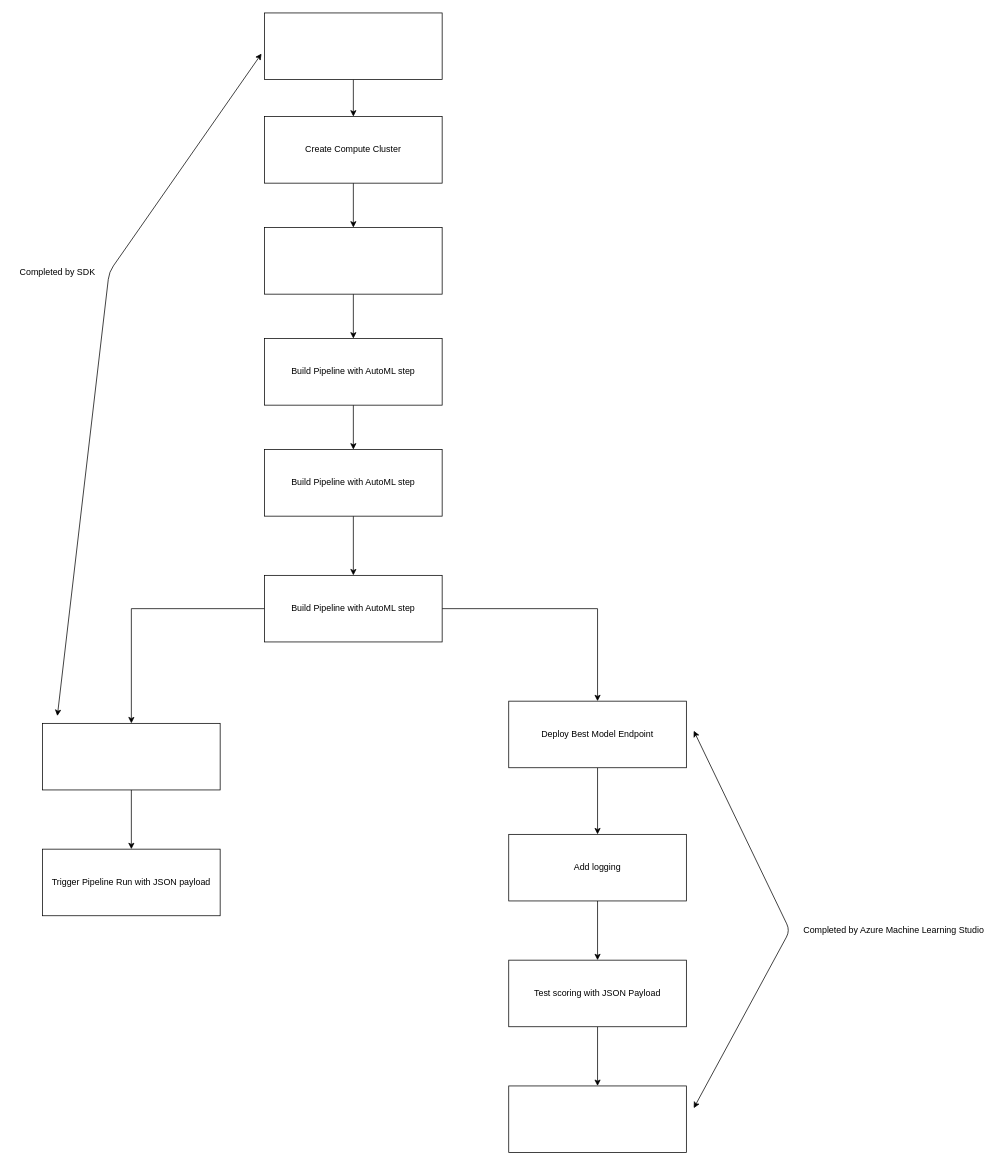
The diagram is 1002 pixels wide and 1166 high, and some of its shapes have lost their labels. The centre of each missing label's shape, as x and y in pixels:
"Create Experiment in workspace" belongs at [353,46].
"Deploy Pipeline Endpoint" belongs at [131,756].
"Document with Sawgger" belongs at [597,1119].
"Load / Register Dataset" belongs at [353,260].
